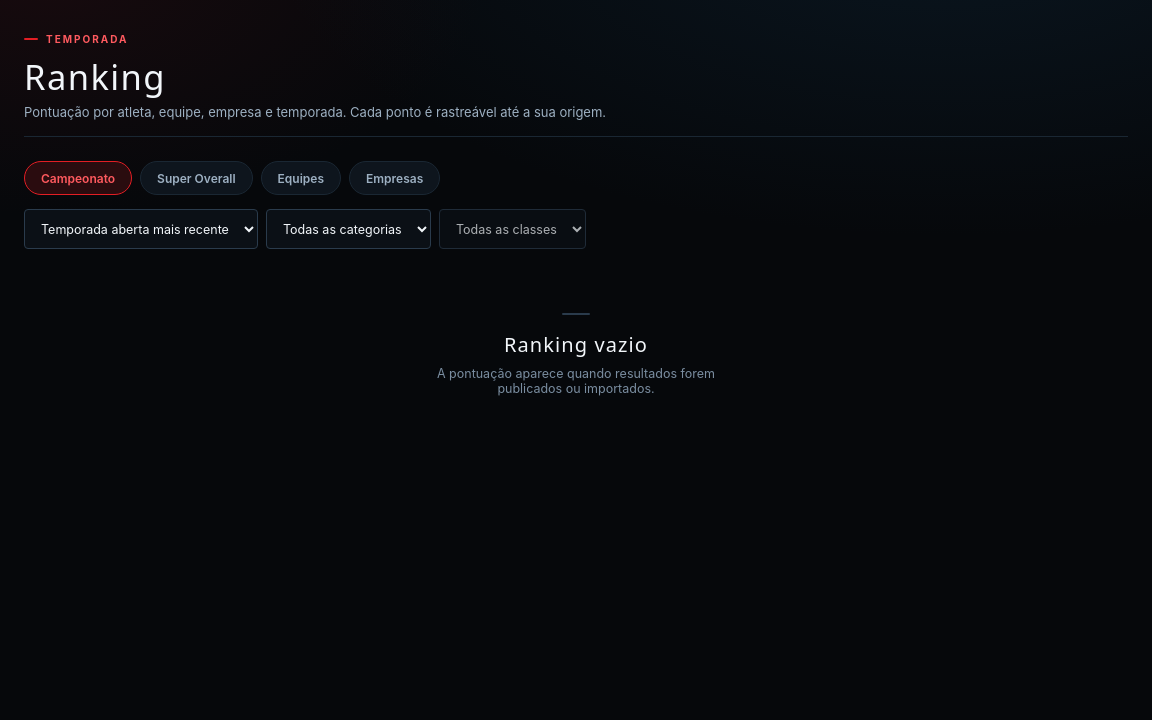
Test: o recorte por classe é do campeonato, e só dele › nas abas de Super Overall, equipes e empresas o seletor de classe não existe
The width and height of the screenshot is (1152, 720).
Expected: the dropdown named "Categoria" is shown, [266, 209, 431, 249]
Expected: the dropdown named "Classe" is shown, [439, 209, 586, 249]
Click the button "Super Overall": click(196, 178) [140, 161, 253, 195]
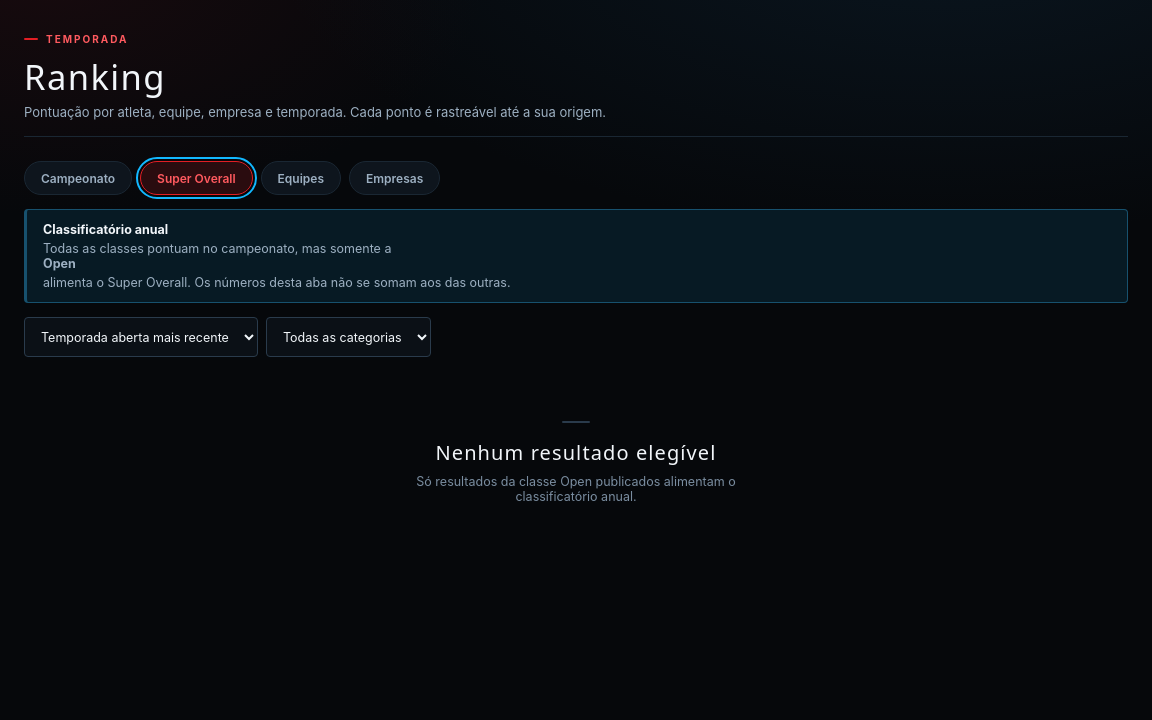
Click the button "Equipes": click(301, 178) [261, 161, 341, 195]
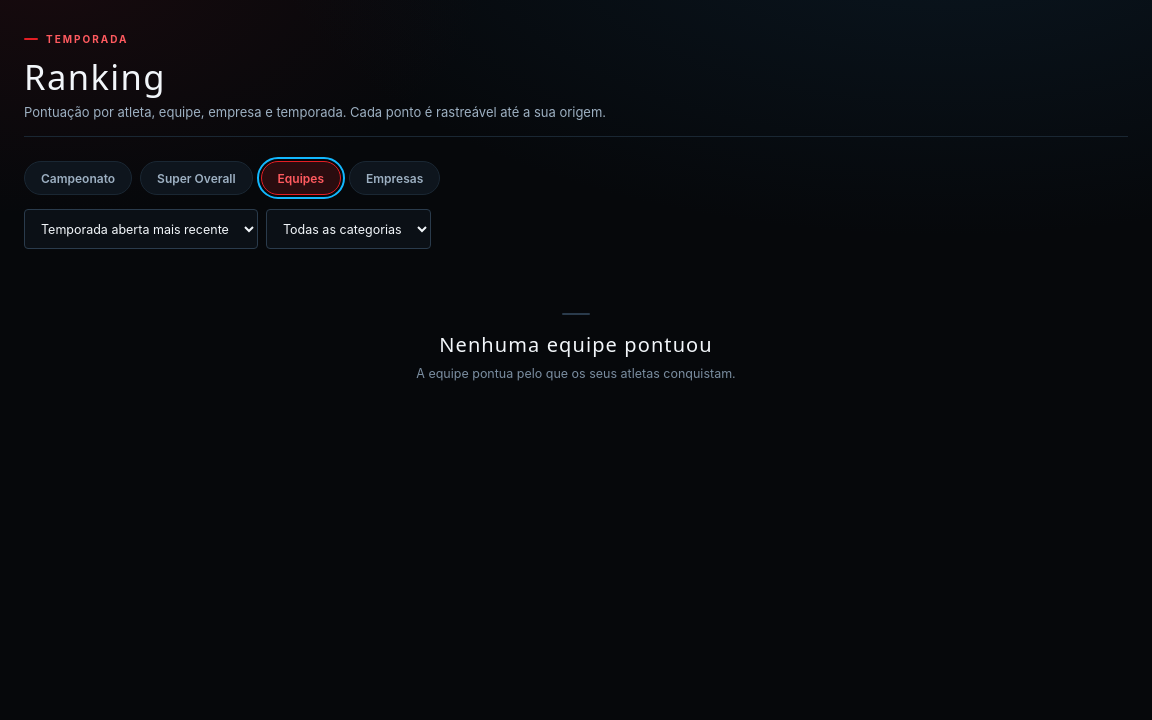
Expected: the field labelled "classe" is gone
Click the button "Empresas": click(395, 178) [349, 161, 440, 195]
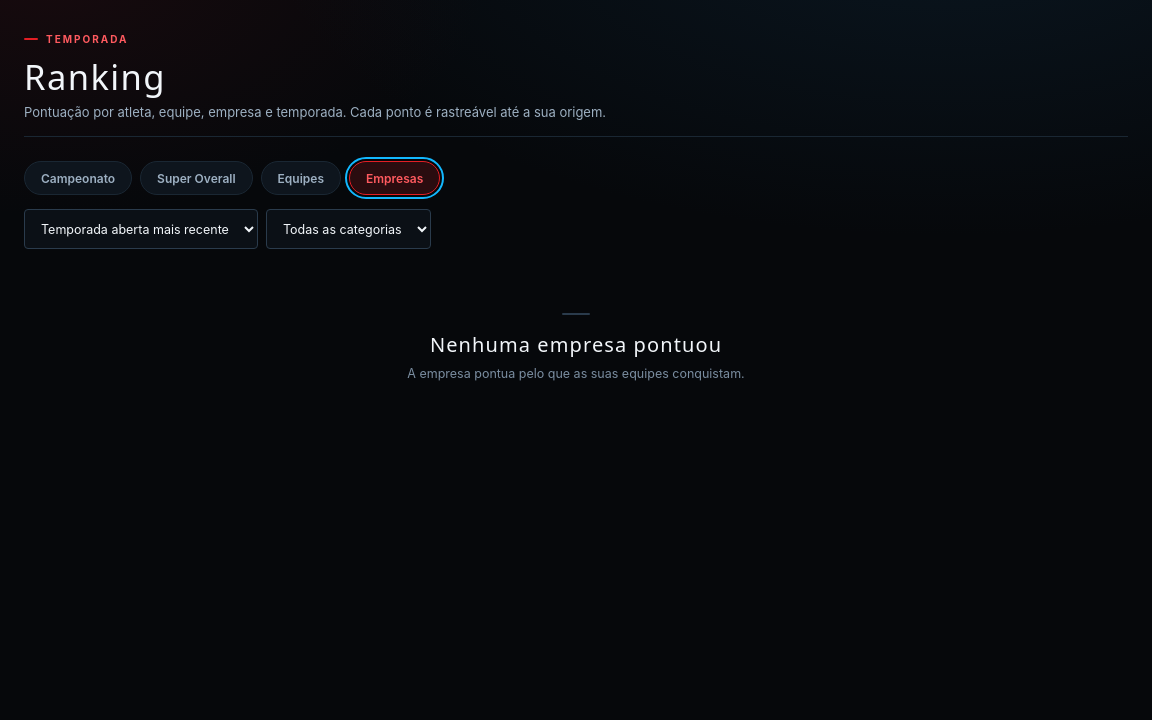
Expected: the field labelled "classe" is not shown
Click the button "Campeonato": click(78, 178) [24, 161, 132, 195]
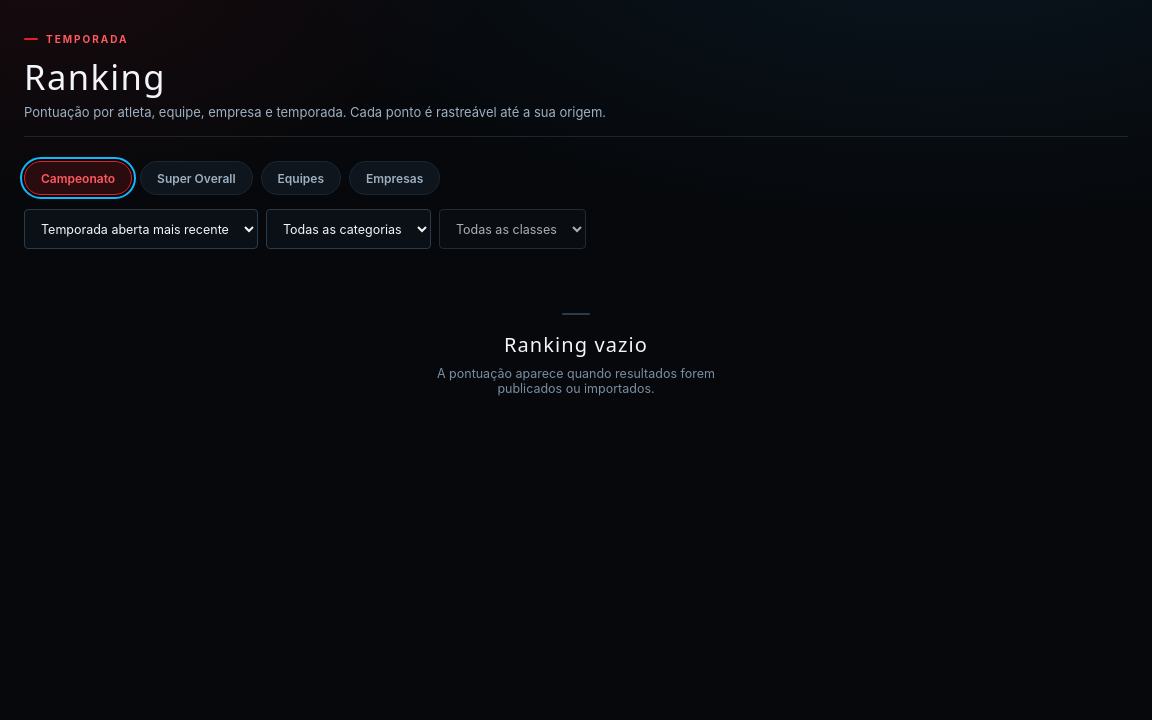
Expected: the dropdown named "Classe" is shown, [439, 209, 586, 249]
